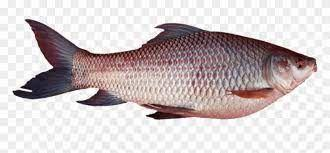Indian Carp: (12, 16, 319, 121)
